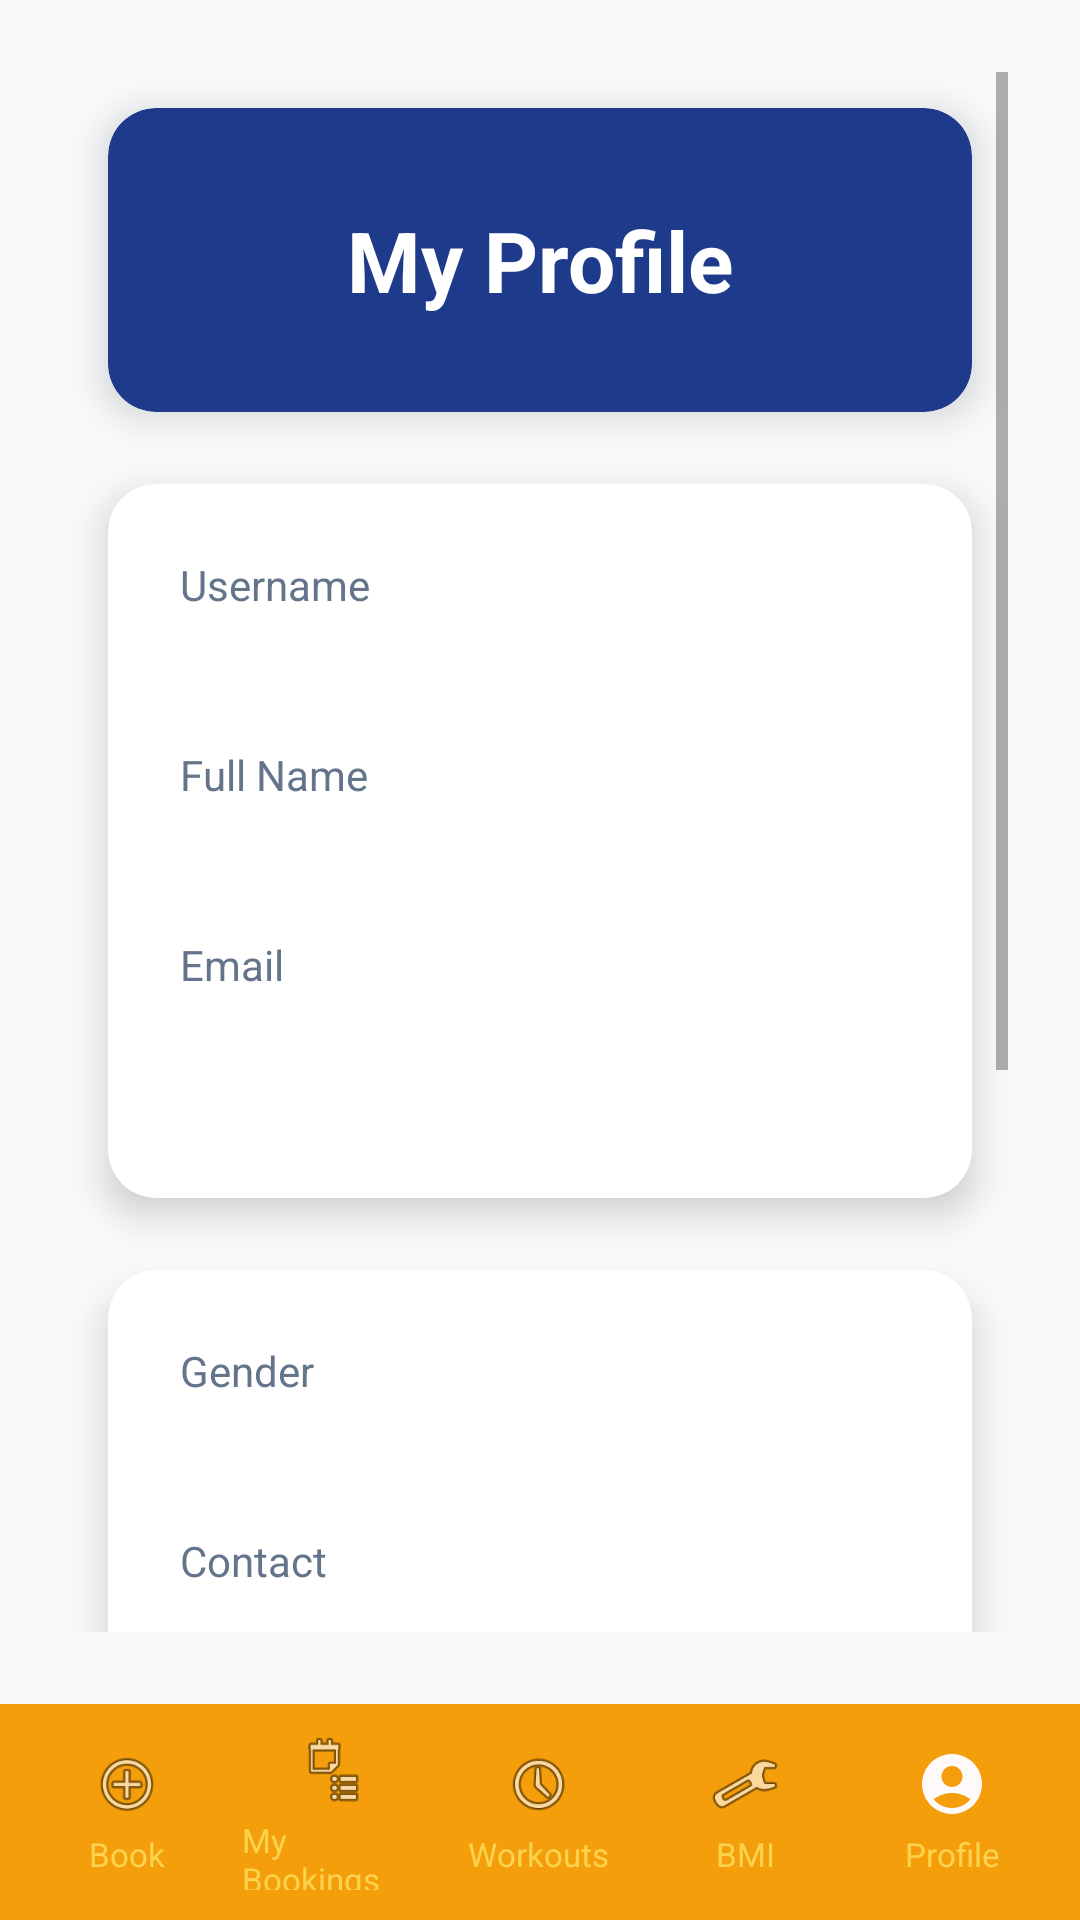

Screen size 1080*1920. Icon name, then its box in pixels as (x1, y1, x2, y2):
account circle: (922, 1754, 982, 1814)
add: (100, 1758, 154, 1811)
agenda: (308, 1738, 359, 1802)
manage: (712, 1759, 777, 1809)
recent history: (512, 1758, 565, 1810)
